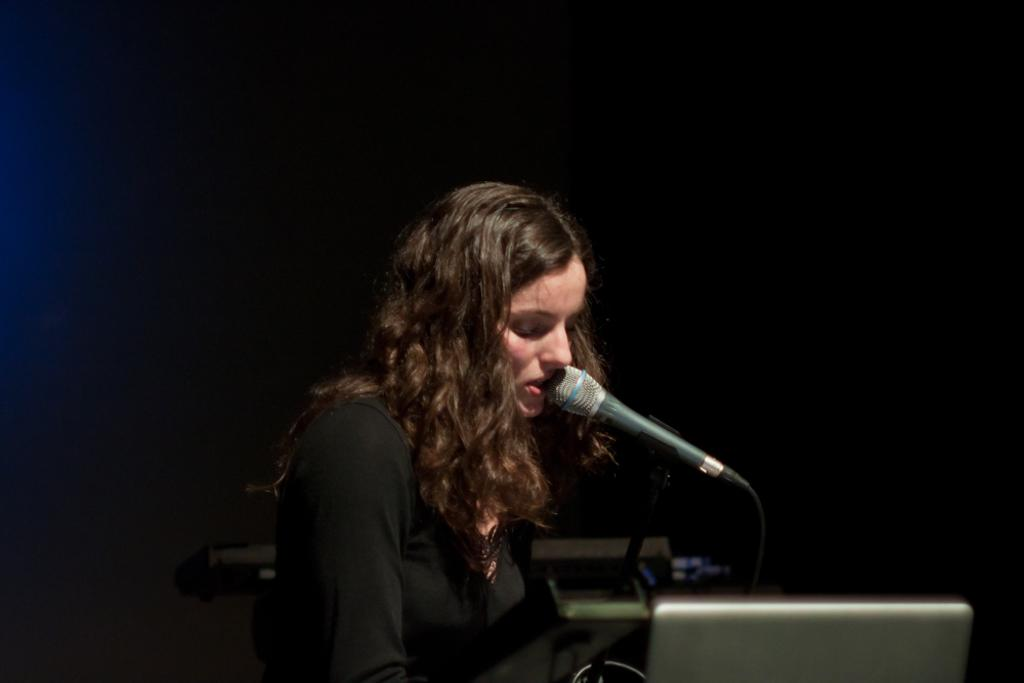Sem Máscara: (493, 254, 584, 413)
